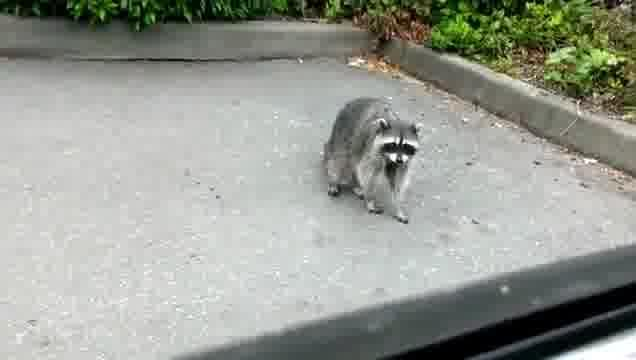raccoon: (324, 95, 422, 226)
